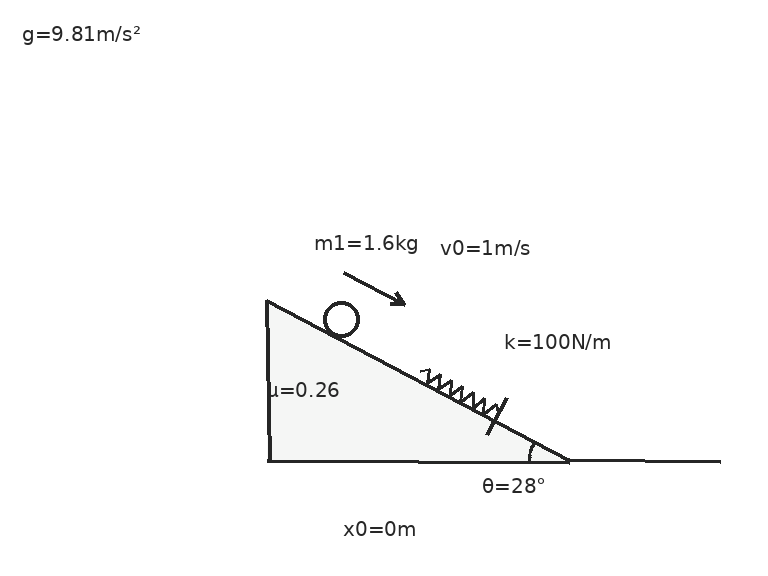ball: (321, 299, 361, 339)
ramp: (266, 299, 571, 463)
spring: (418, 366, 500, 415)
